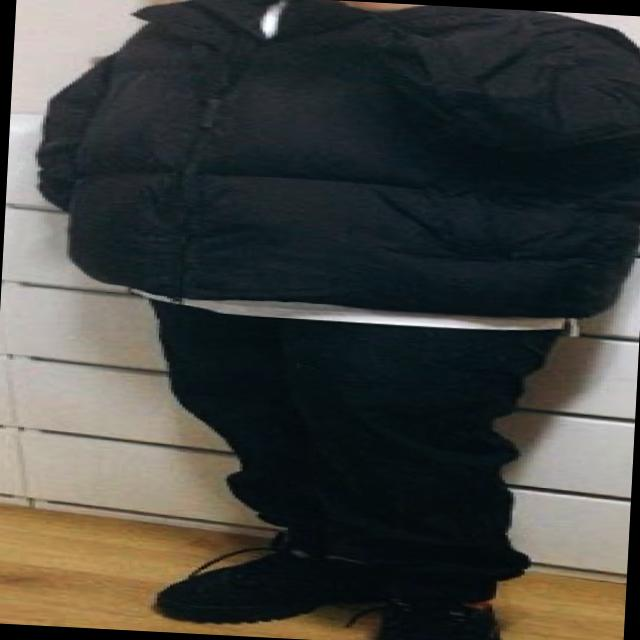padding: (28, 0, 640, 329)
trainingpants: (135, 297, 550, 609)
